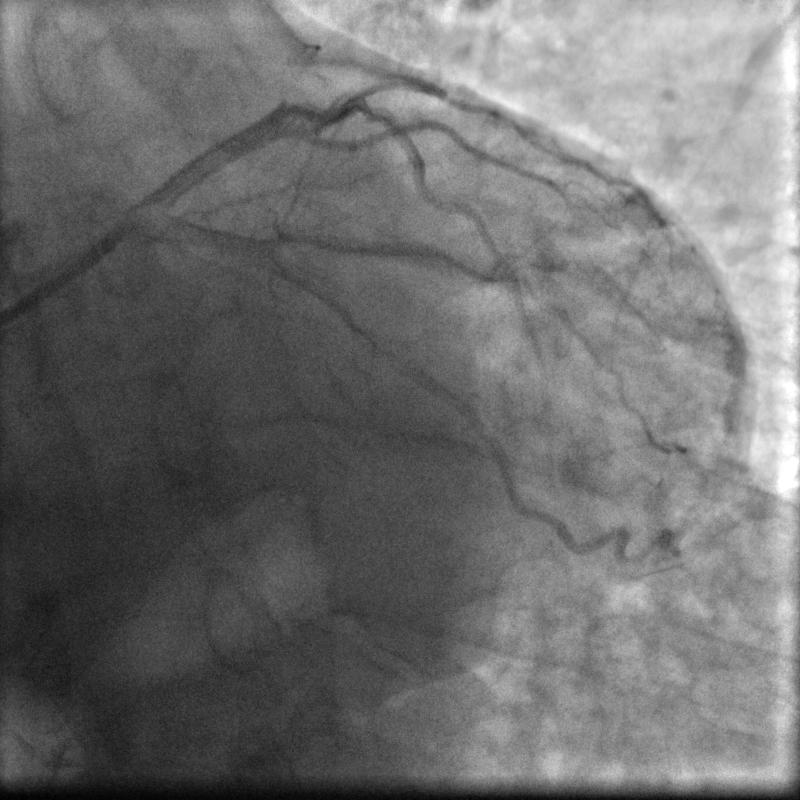Stenosis: (464, 404, 495, 460)
